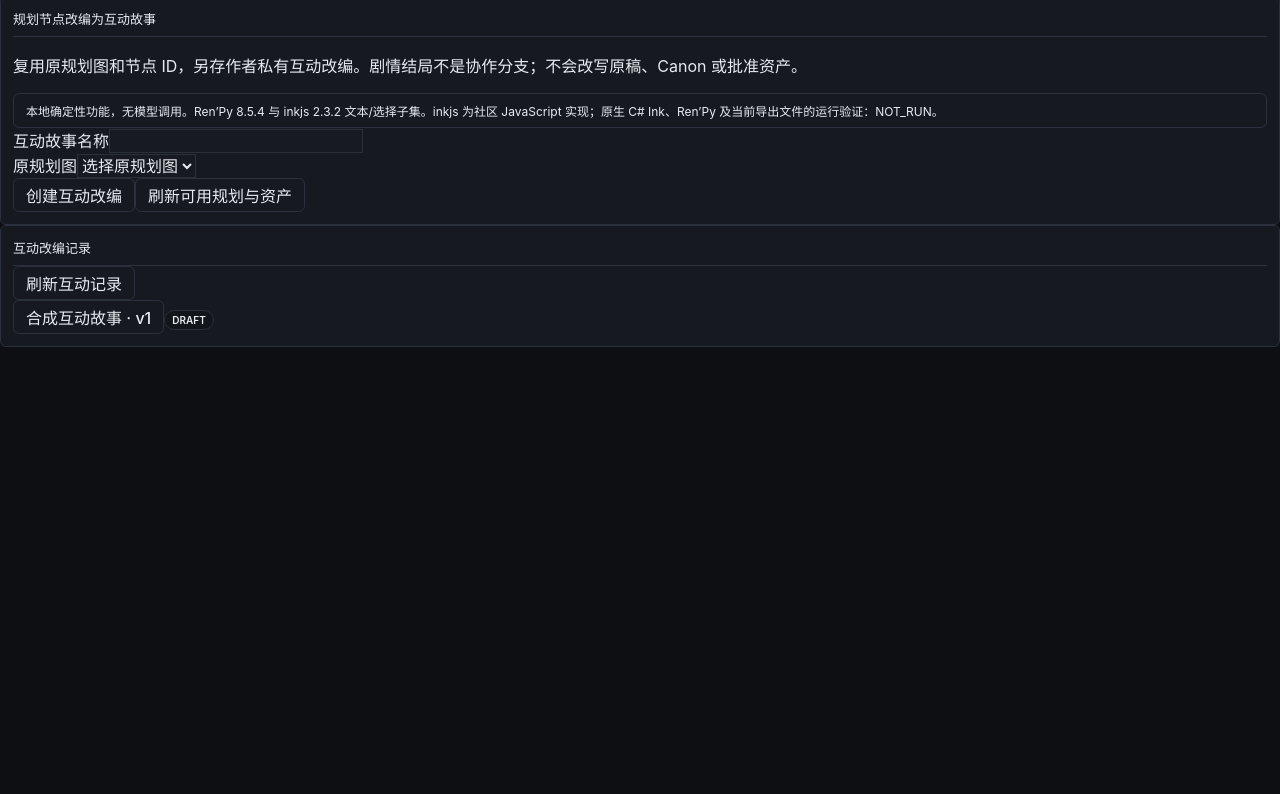
it: actually plays server-returned choices to an ending, and resets bounded state
Click the button "合成互动故事 · v1": (89,317) [13,300,164,334]
(page scrolled)
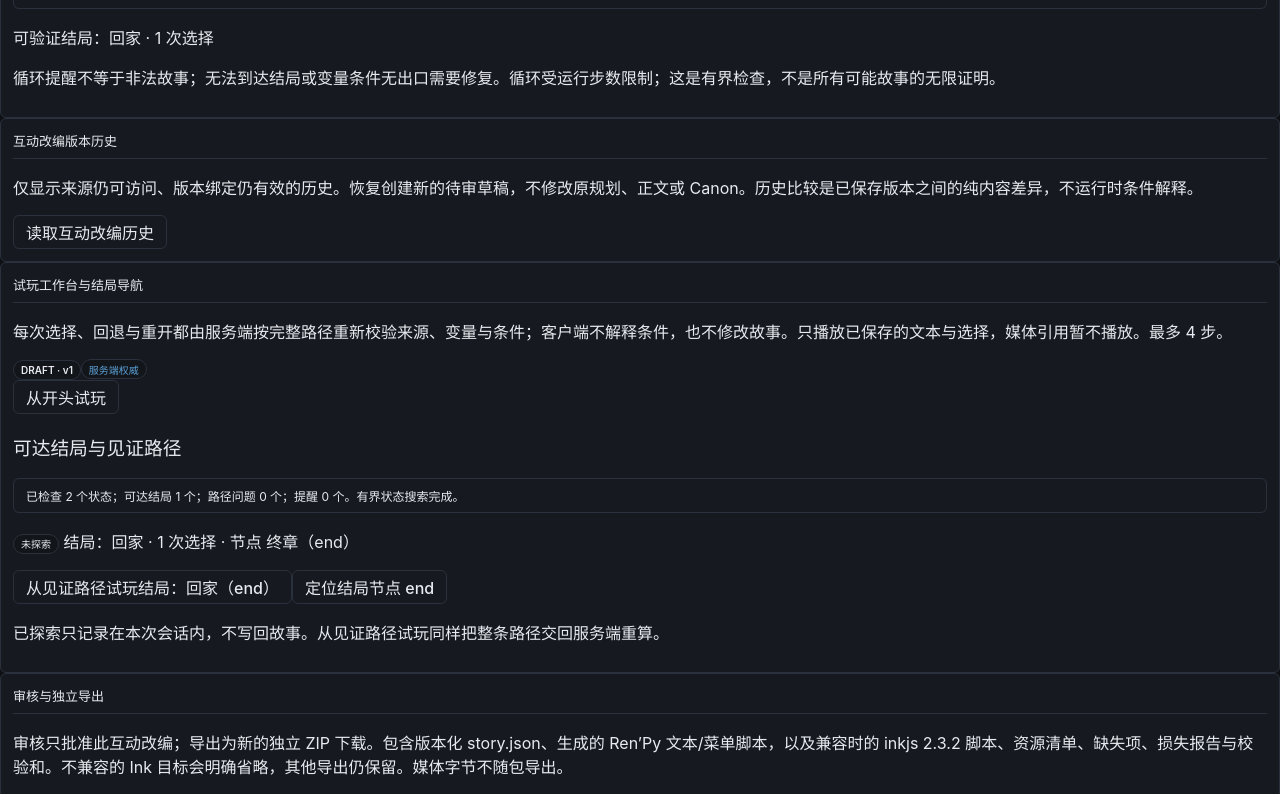
Click the button "从开头试玩": (66,397) [13,380,119,414]
(page scrolled)
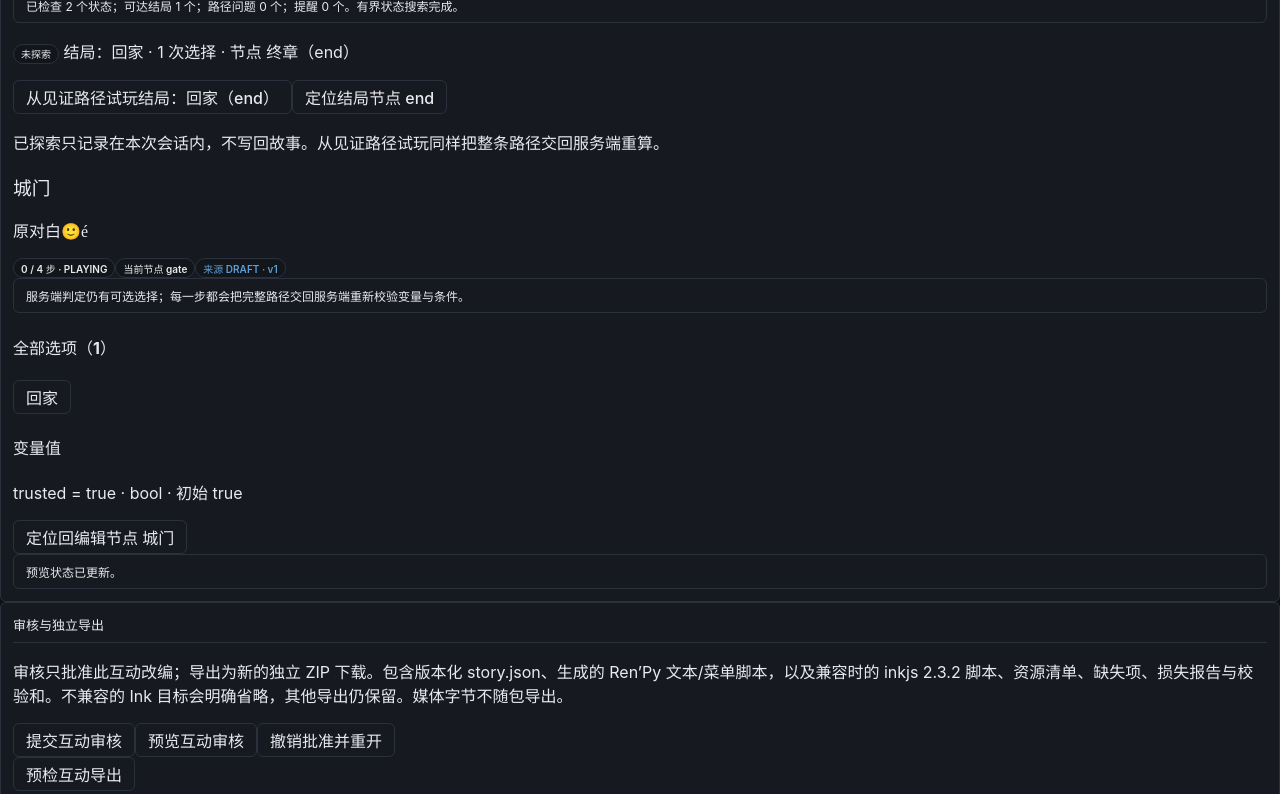
Click the button "回家": (42,397) [13,380,71,414]
(page scrolled)
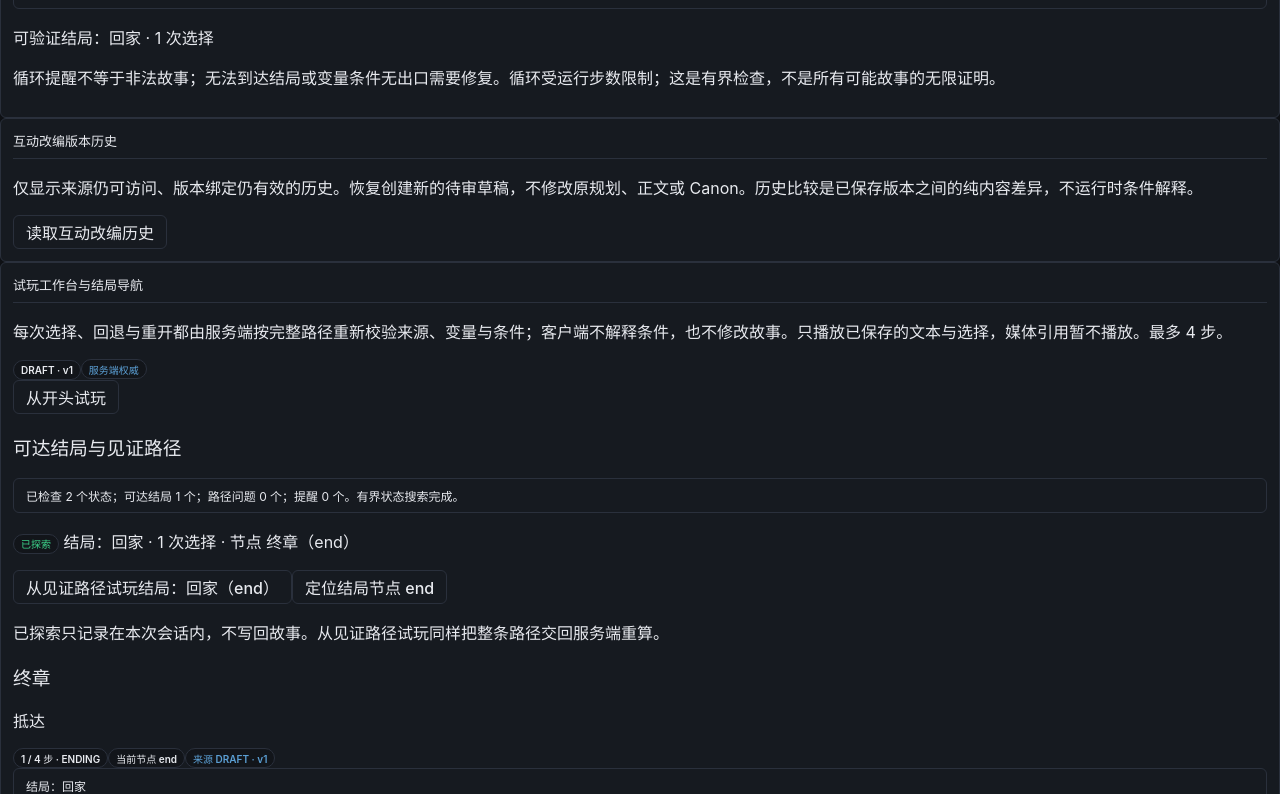
expect the text "1 / 4 步 · ENDING" is shown: met, box [13,748,108,768]
Click the button "从开头试玩": (66,397) [13,380,119,414]
(page scrolled)
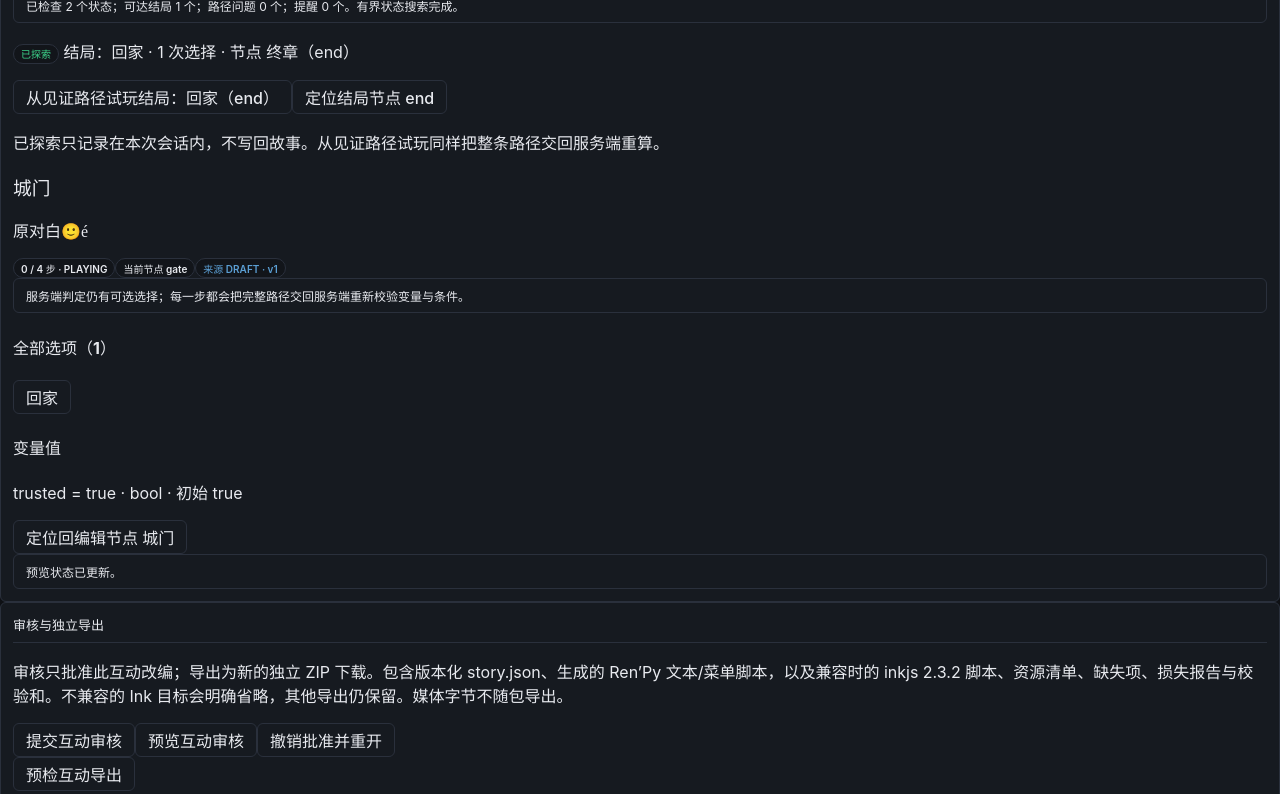
expect the button "回家" is shown: met, box [13,380,71,414]
